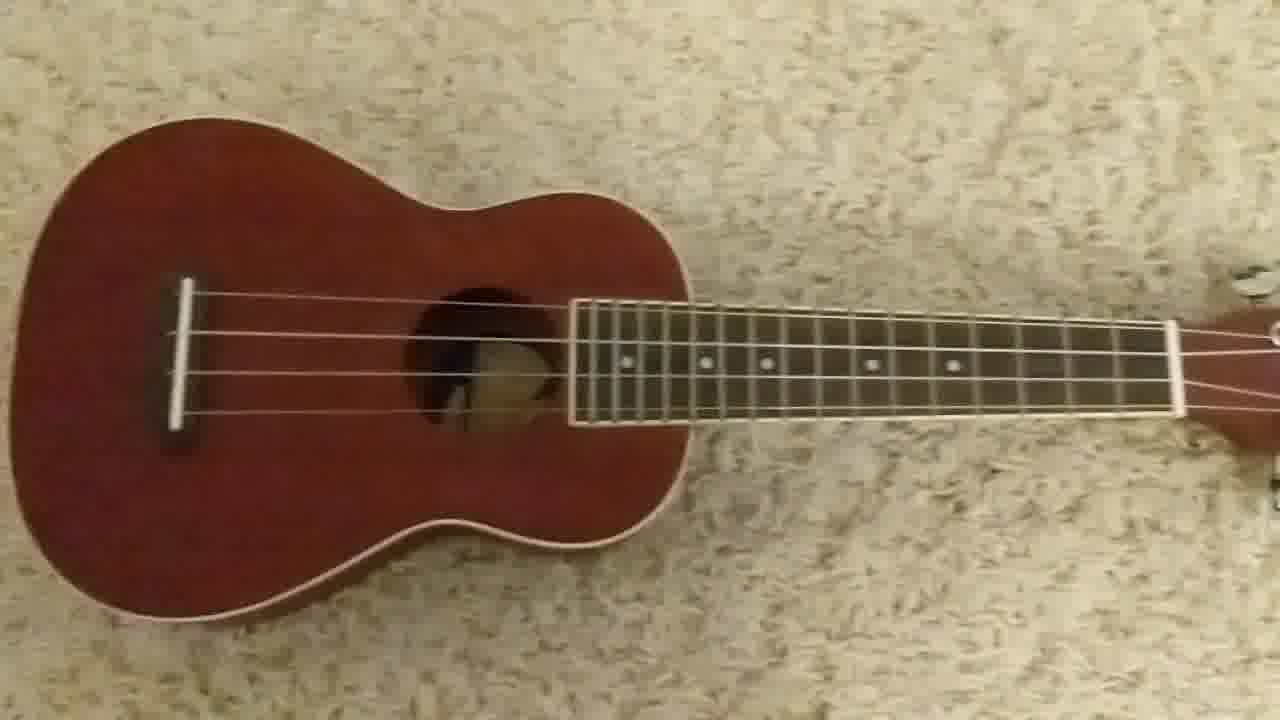Body: (3, 112, 705, 637)
Bridge: (155, 271, 212, 441)
Headstock: (1176, 249, 1280, 519)
